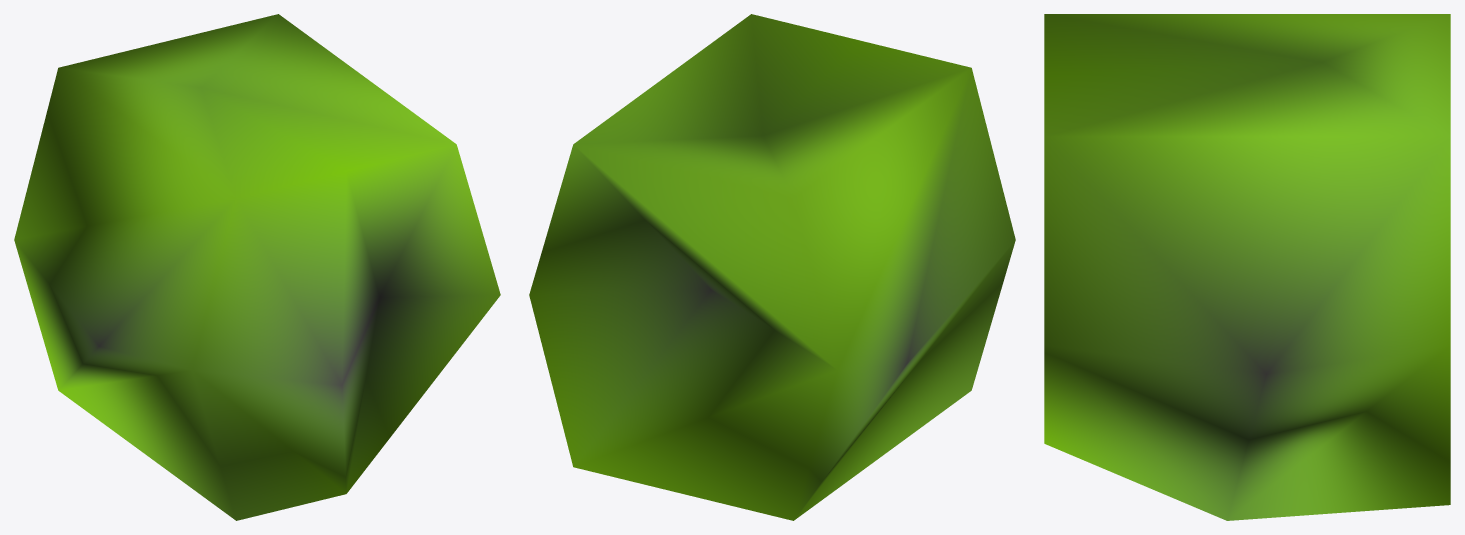
The model's file is junction_box_lod8.glb.
3 views of the same model, side by side, from view 1: azimuth 30°, elevation 25°; view 2: azimuth 150°, elevation 25°; view 3: azimuth 270°, elevation 25° (orthographic). The views are drawn at different scales.
Visible parts, largest first — view 1: junction_box; view 2: junction_box; view 3: junction_box.
Boxes of the visible parts, x1,y1,x2,y2 form: junction_box: [14, 14, 500, 520]; junction_box: [529, 14, 1015, 520]; junction_box: [1044, 14, 1450, 520].
Bounding box in the file's own units: 2 × 2 × 2.
